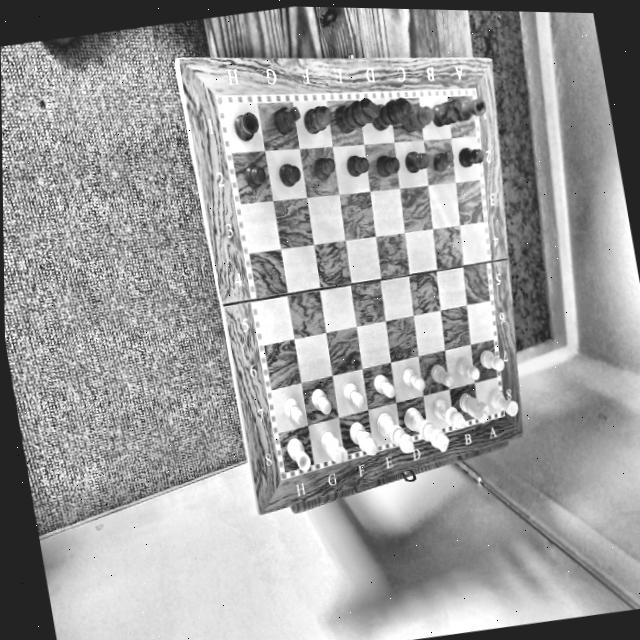black-bishop: (300, 101, 340, 139), (398, 100, 436, 138)
black-king: (334, 91, 384, 143)
black-knight: (269, 100, 308, 143), (428, 93, 467, 133)
black-pawn: (454, 138, 489, 179), (399, 148, 431, 178), (274, 162, 304, 194), (374, 151, 402, 184), (344, 150, 370, 184), (430, 147, 456, 180), (240, 162, 266, 194), (309, 155, 337, 181)
black-queen: (367, 91, 417, 138)
black-rook: (229, 106, 265, 153), (453, 93, 490, 128)
white-bishop: (345, 418, 378, 461), (430, 395, 466, 432)
white-king: (401, 405, 452, 460)
white-knight: (316, 426, 350, 473), (458, 388, 490, 428)
white-pawn: (475, 343, 509, 379), (305, 385, 336, 422), (279, 395, 309, 433), (425, 359, 455, 394), (369, 369, 396, 405), (342, 379, 367, 417), (455, 358, 481, 387), (402, 368, 427, 396)
white-queen: (373, 408, 415, 463)
white-rook: (486, 382, 524, 424), (281, 436, 313, 474)
